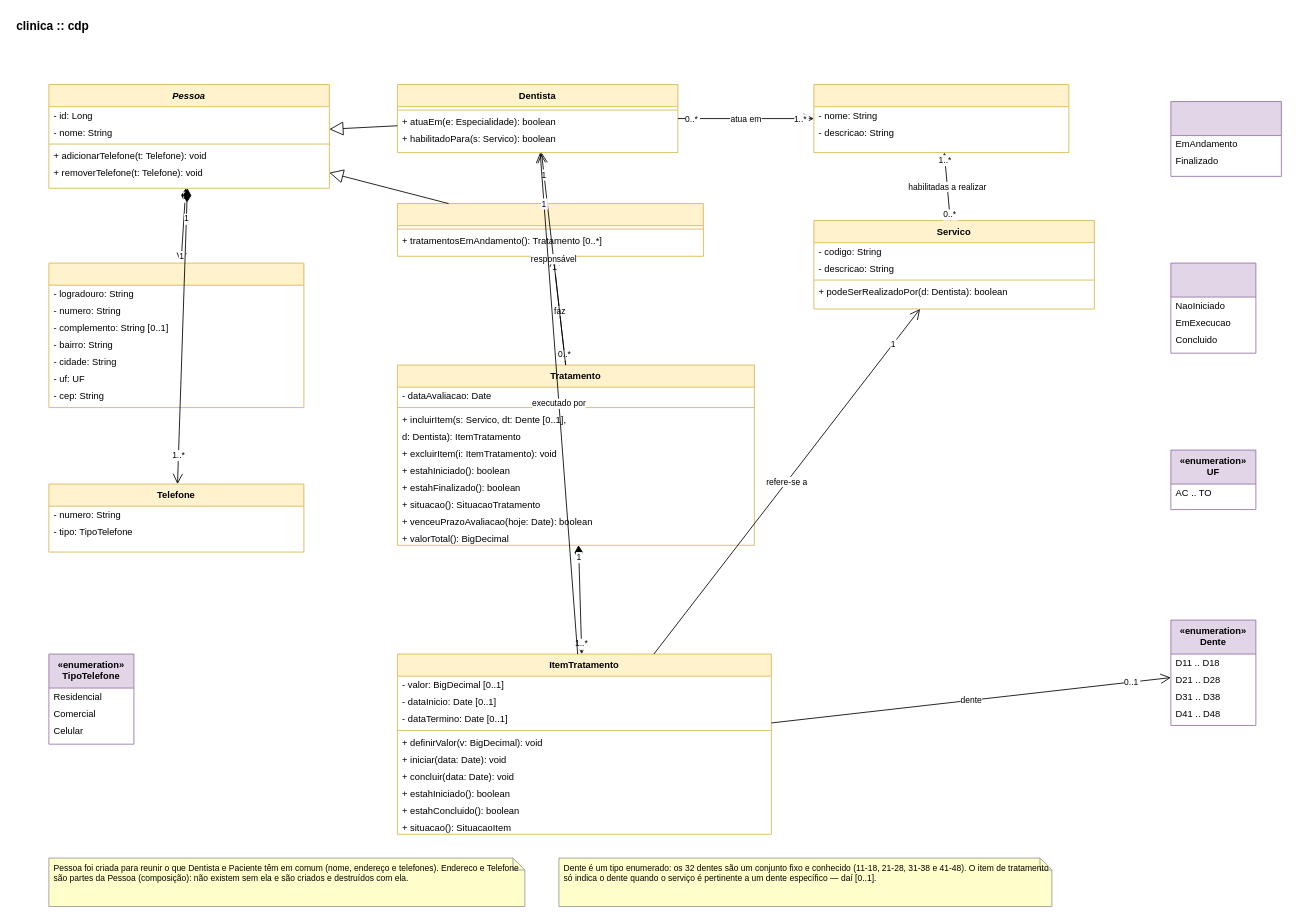
Image size: 1296x921. Some labels were removed from this diagram. Here are the shapes that lost their labels. From the top down, the box of each, then its label:
(813, 84, 1069, 153): Especialidade
(1170, 101, 1281, 176): «enumeration» SituacaoTratamento
(397, 203, 703, 256): Paciente
(1170, 262, 1256, 353): «enumeration» SituacaoItem
(48, 262, 304, 408): Endereco
